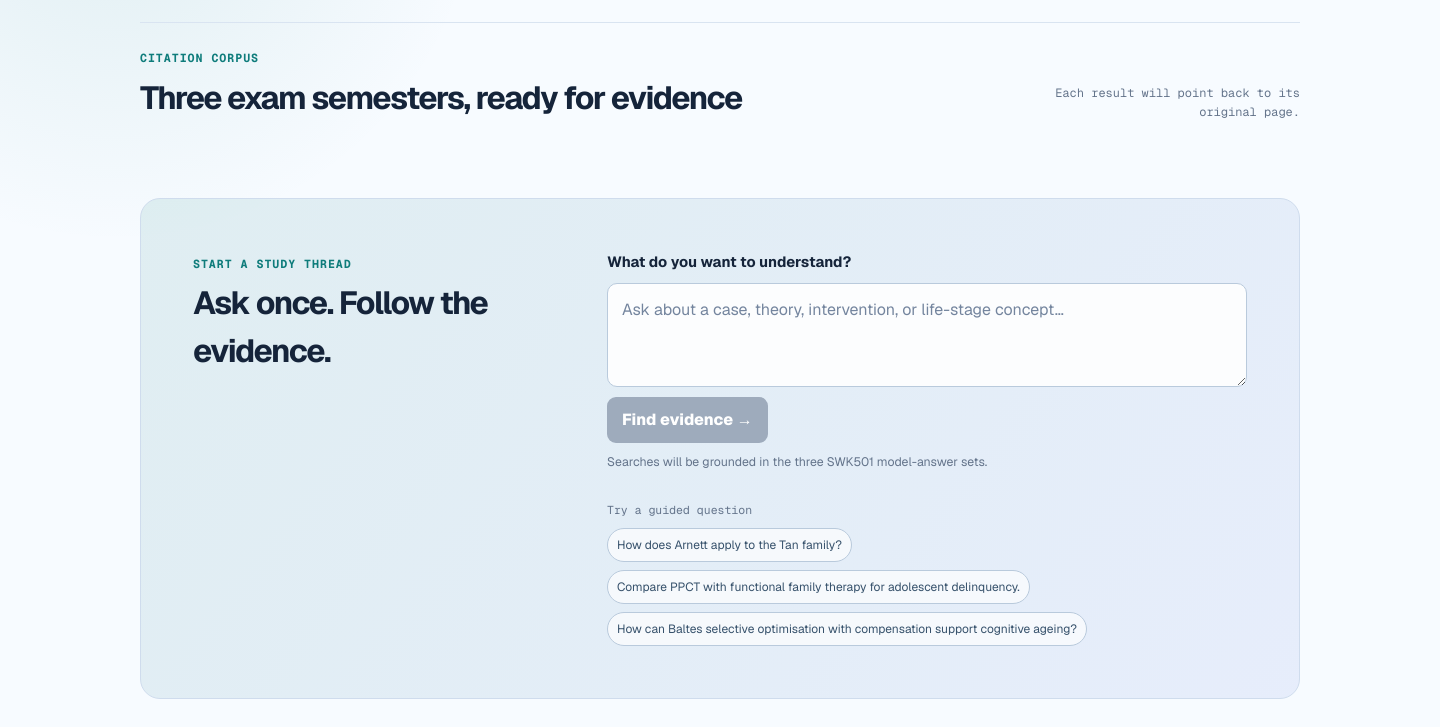
Test: aborts old work before a guided question starts a new request
(page scrolled)
Type "First question" into the text box. click: {"x": 927, "y": 335}
box: [607, 283, 1247, 387]
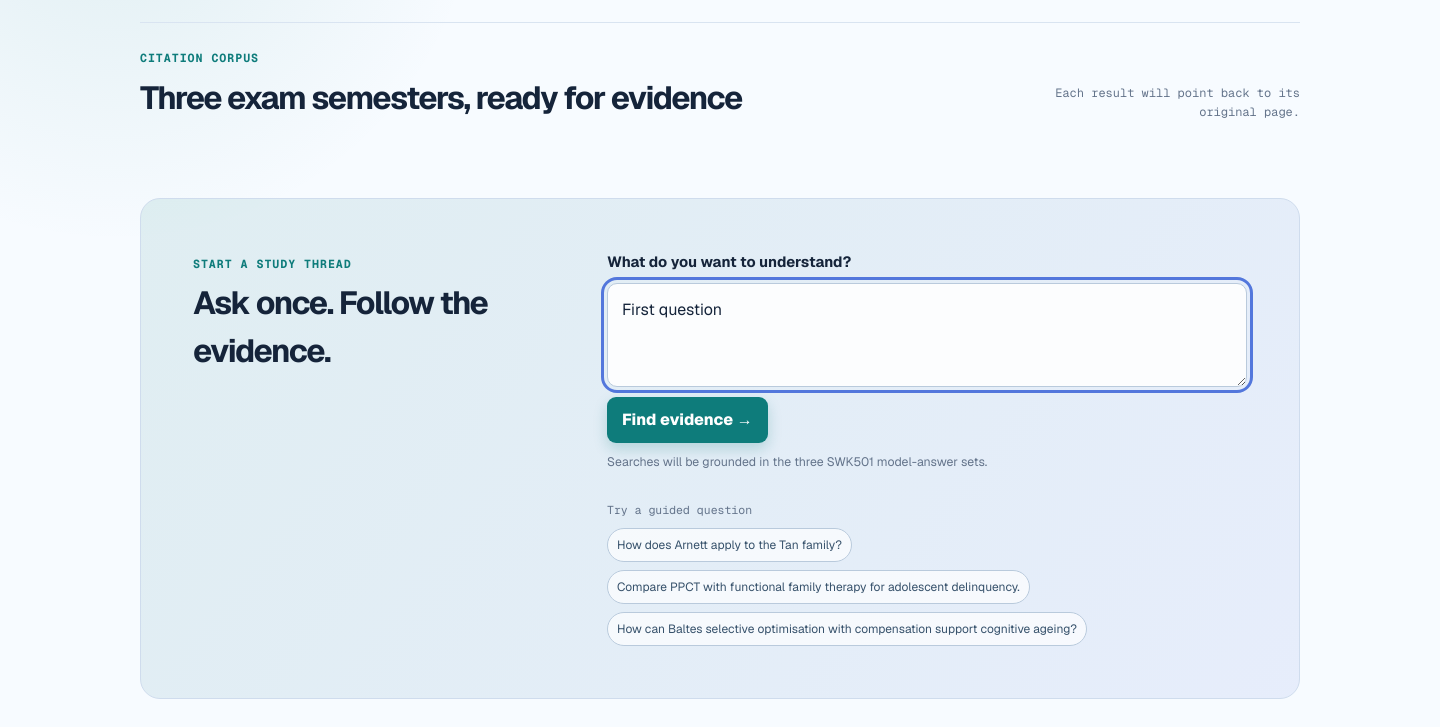
Click the button "Find evidence →". click: {"x": 687, "y": 420}
box: [607, 397, 768, 443]
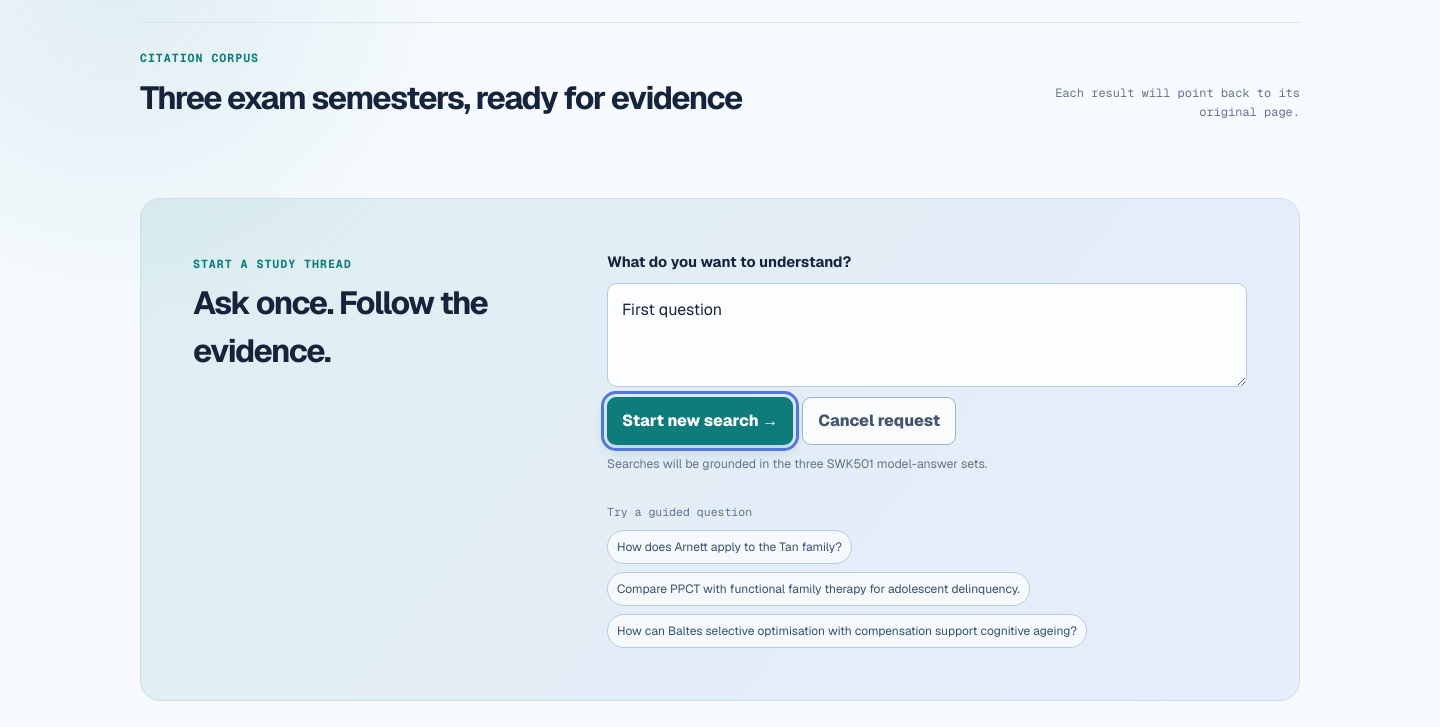
Click the button "How does Arnett apply to the Tan family?". click: {"x": 729, "y": 546}
box: [607, 530, 852, 564]
(page scrolled)
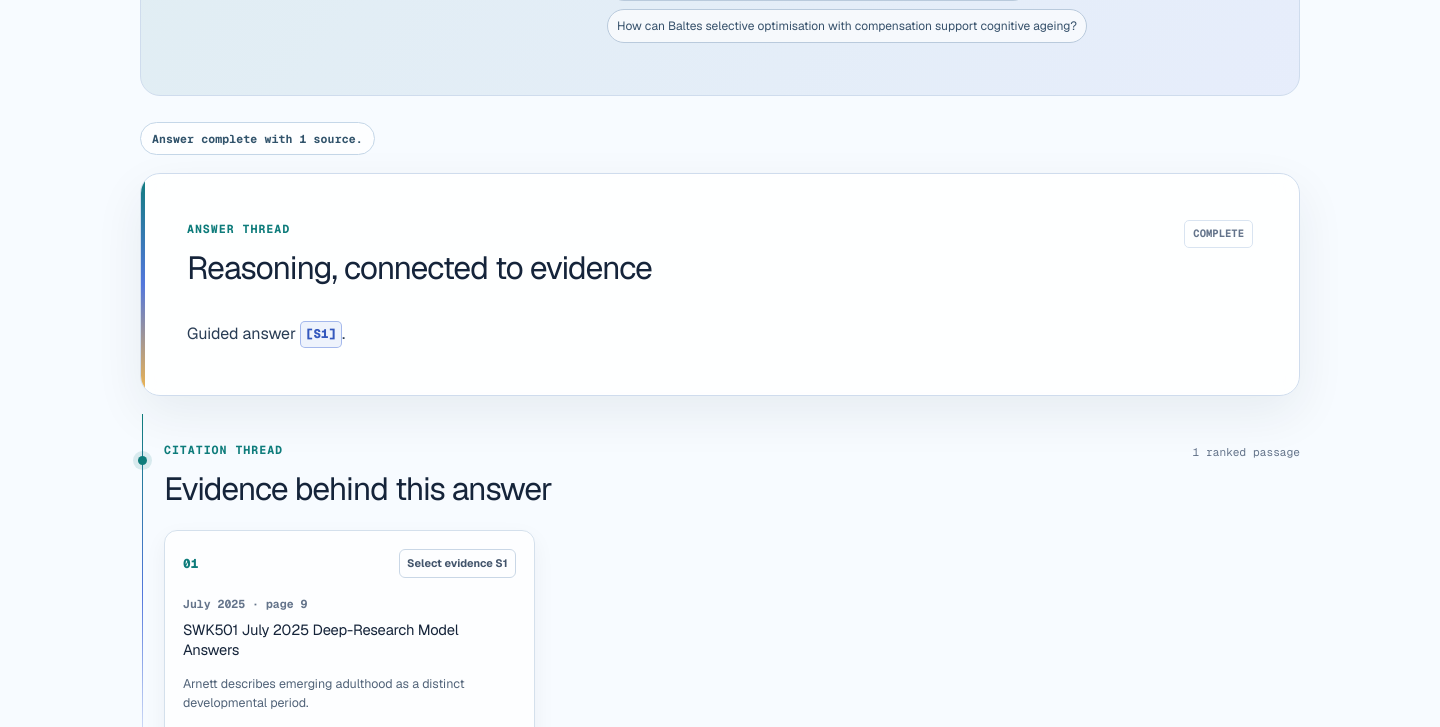
Now the text "Guided answer [S1] ." is shown, box [187, 321, 345, 348]
